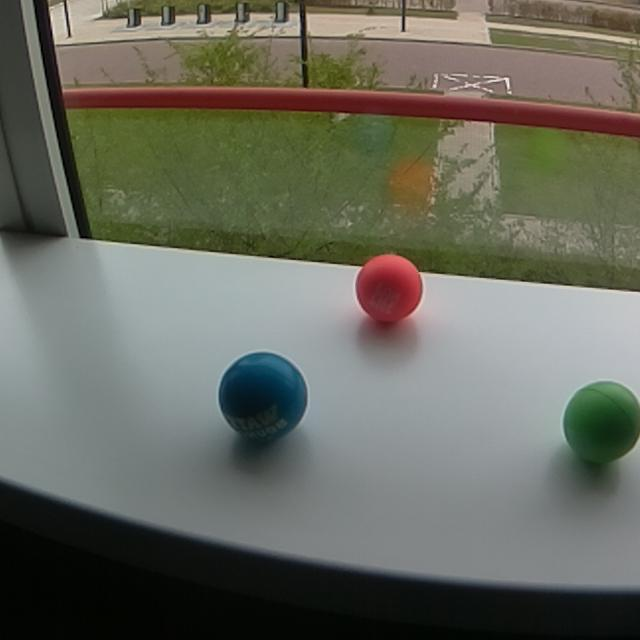ball: (215, 349, 312, 448), (559, 379, 640, 465), (352, 251, 426, 326)
